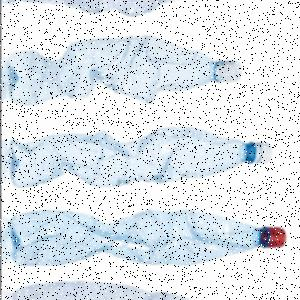Plastic-bottle: (6, 127, 274, 190), (6, 36, 242, 106), (10, 209, 290, 268)
